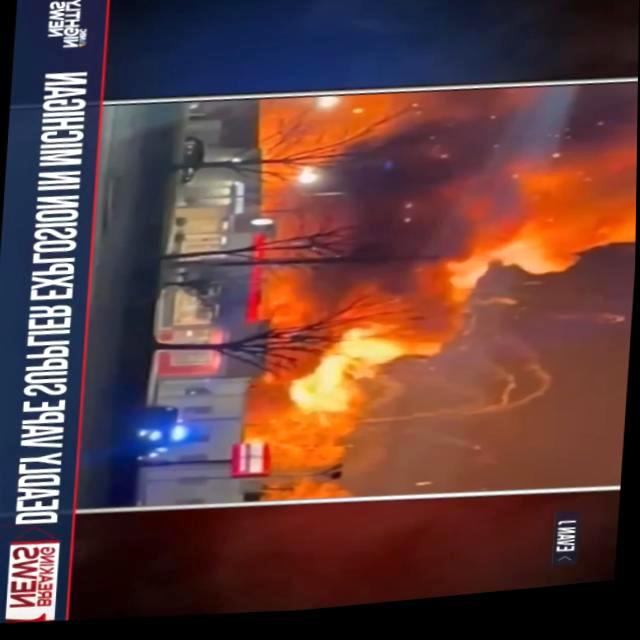fire: (236, 72, 638, 528)
